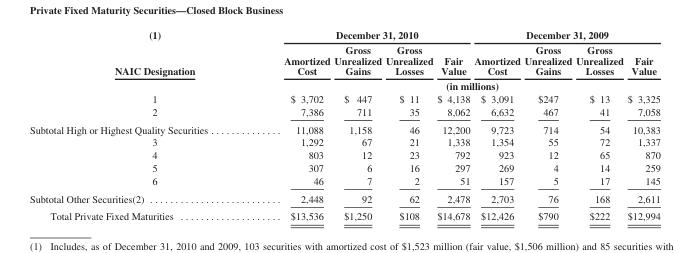table: (28, 28, 659, 221)
table column: (28, 28, 245, 221), (245, 28, 331, 221), (331, 28, 383, 221), (521, 28, 573, 221), (383, 28, 434, 221), (573, 28, 624, 221), (471, 28, 521, 221), (434, 28, 471, 221), (624, 28, 659, 221)
table column header: (28, 28, 659, 92)
table row: (28, 42, 659, 77), (28, 189, 659, 207), (28, 104, 659, 120), (28, 173, 659, 189), (28, 77, 659, 92), (28, 120, 659, 135), (28, 28, 659, 42), (28, 207, 659, 221), (28, 135, 659, 148), (28, 148, 659, 161), (28, 92, 659, 104), (28, 161, 659, 173)
table spanning cell: (28, 28, 245, 92), (245, 77, 659, 92), (245, 28, 471, 42), (471, 28, 659, 42)
